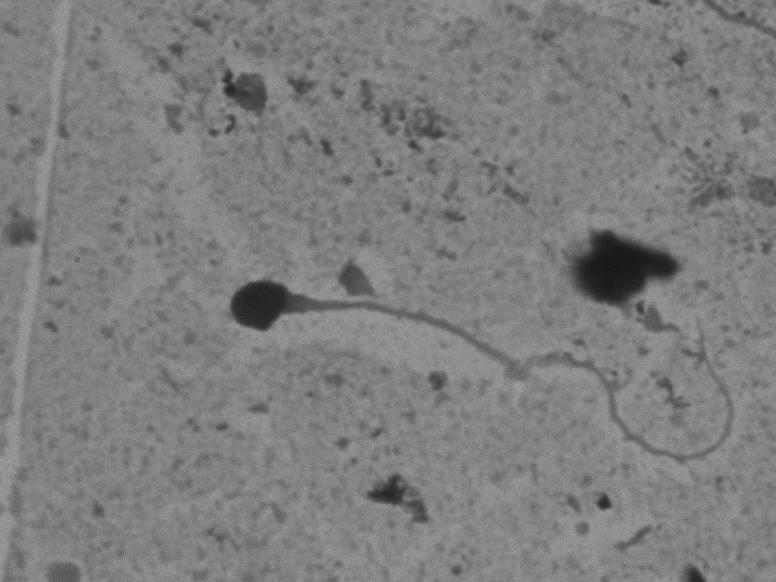Abnormal: (212, 273, 741, 488)
